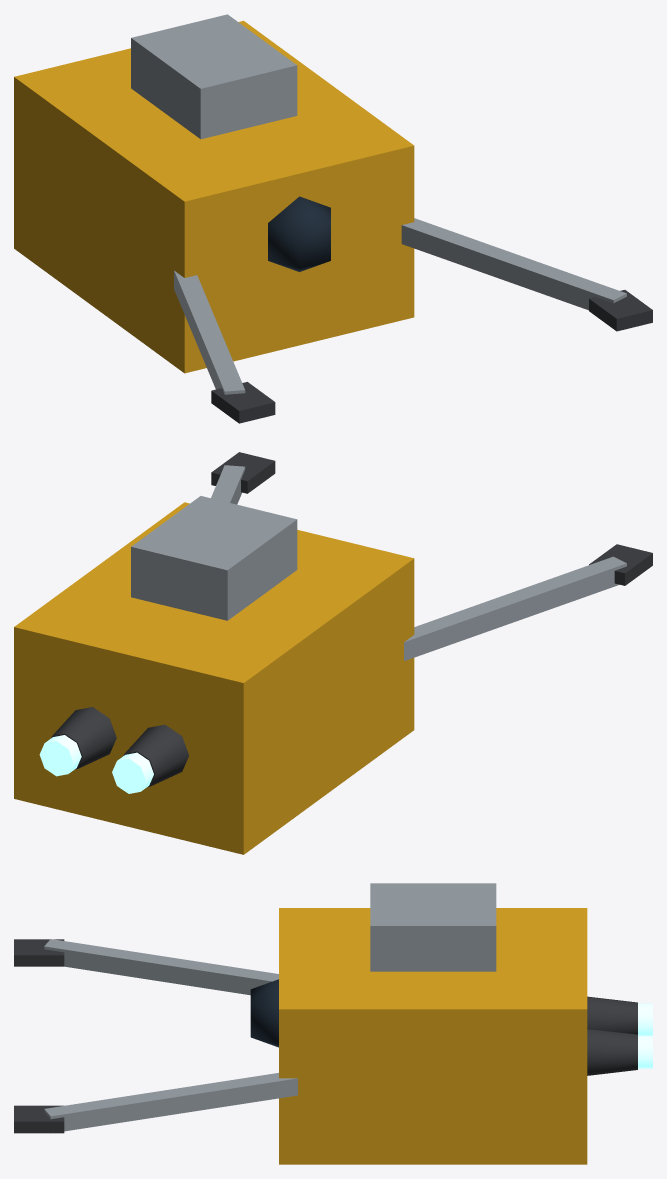
Rendered from space_ship_builder_drone_mk4.glb.
3 views of the same model, one above another, from view 1: azimuth 30°, elevation 25°; view 2: azimuth 150°, elevation 25°; view 3: azimuth 270°, elevation 25° (orthographic). The views are drawn at different scales.
Visible parts, largest first — view 1: body, arm_1, arm_0; view 2: body, arm_0, engine_0, engine_1, arm_1; view 3: body, arm_1, arm_0, engine_1, engine_0.
Boxes of the visible parts, x1,y1,x2,y2 form: body: (14,14,414,373); arm_1: (401,218,652,331); arm_0: (174,270,275,423); body: (14,496,414,854); arm_0: (404,544,652,660); engine_0: (112,724,188,793); engine_1: (39,707,116,776); arm_1: (211,452,275,504); body: (250,883,587,1164); arm_1: (14,1073,297,1133); arm_0: (14,939,278,995); engine_1: (587,1028,652,1075); engine_0: (587,996,652,1035).
Size of what is drawn, in the model's own units: 3.43 by 1.83 by 5.07.
